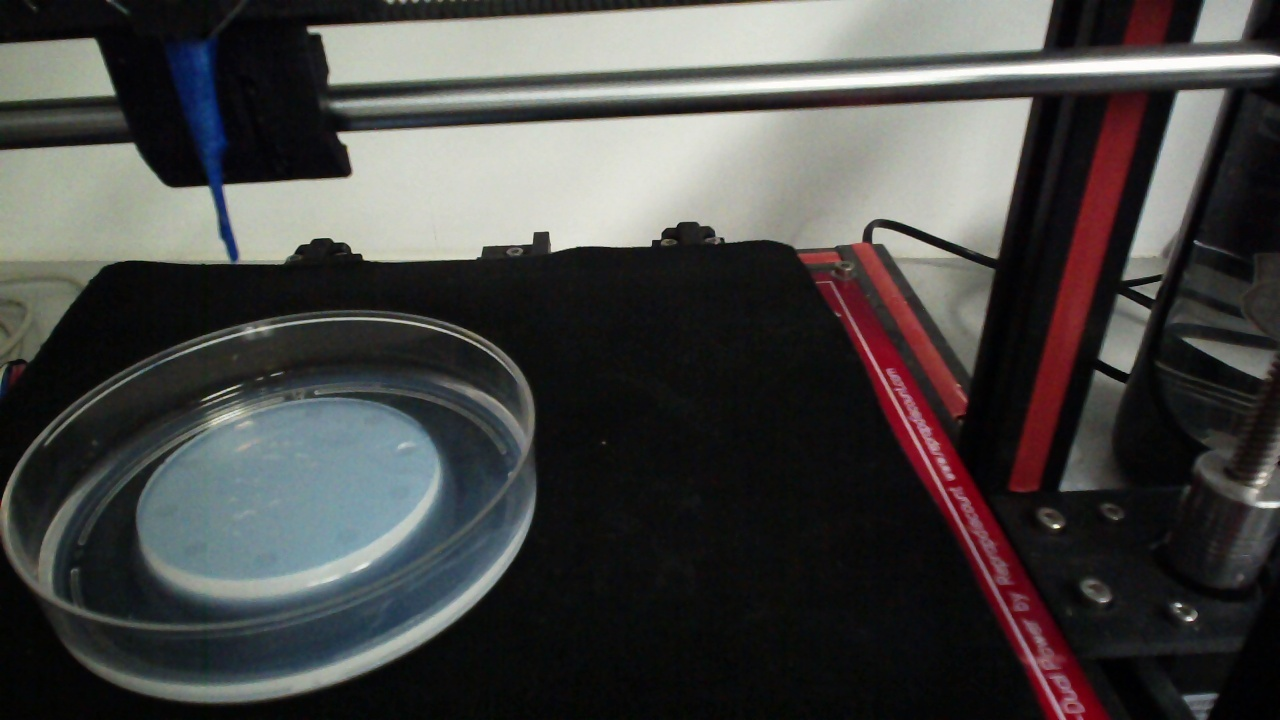groove: (249, 550, 278, 572), (332, 525, 359, 548), (181, 537, 209, 559), (152, 499, 178, 522), (383, 482, 411, 502), (181, 452, 208, 471), (231, 418, 257, 437), (395, 439, 418, 459), (302, 403, 325, 422), (360, 410, 384, 428)
needle: (171, 50, 236, 262)
